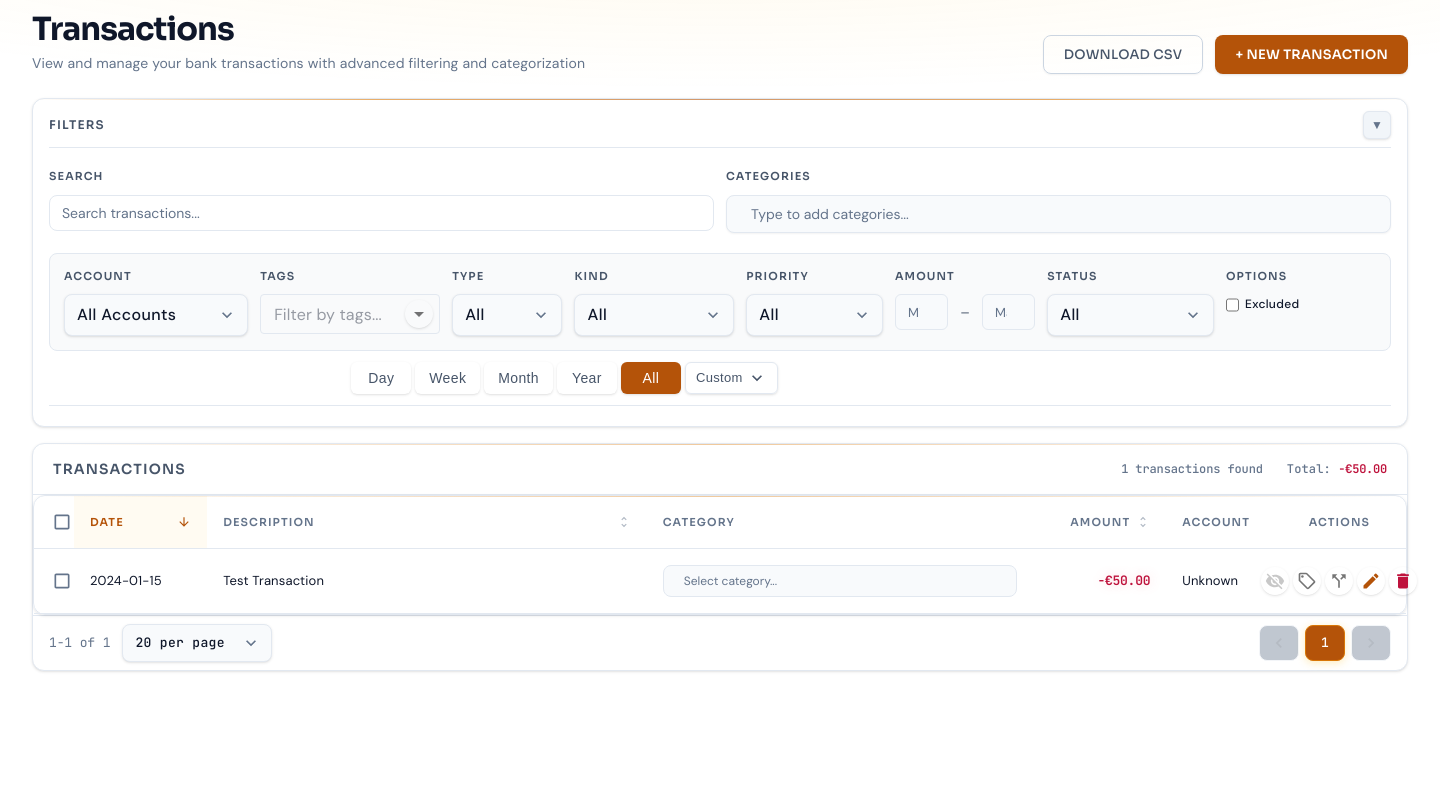
TransactionsPage › new transaction modal › opens modal when clicking New Transaction button
Expected: the text "Test Transaction" is shown, [223,572,324,589]
Step 1. Click the button "+ New Transaction" → (1312, 55), box [1215,35,1408,74]
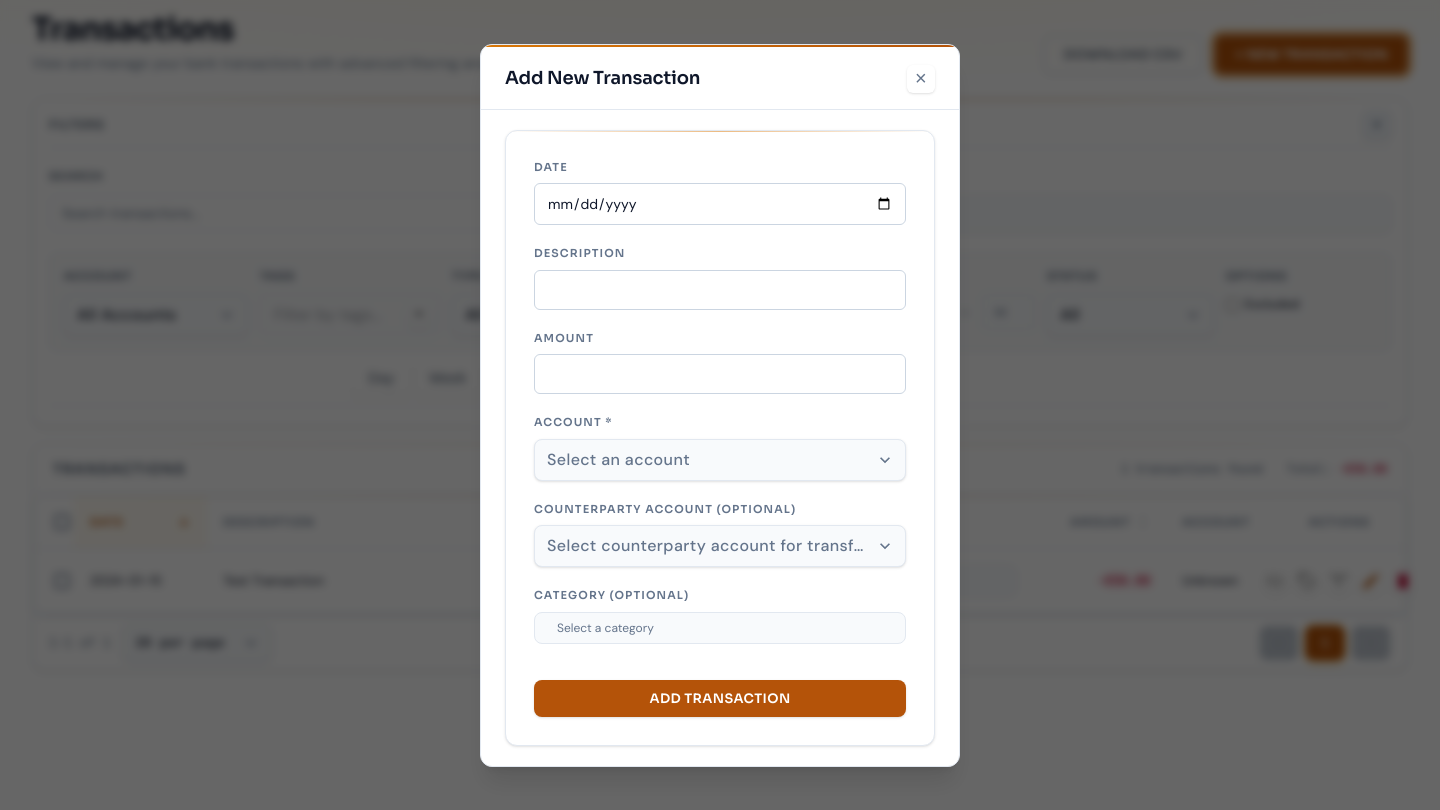
Expected: the heading "Add New Transaction" is shown, [505,67,700,90]
